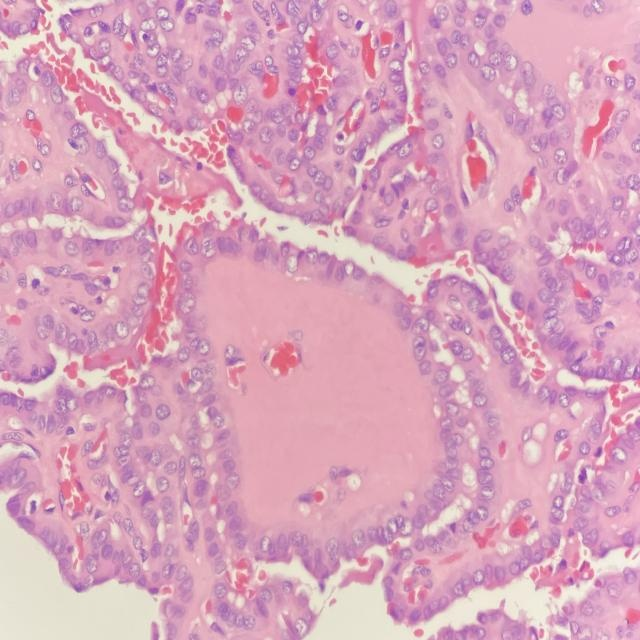TC: (163, 284, 210, 321), (350, 512, 372, 563), (408, 307, 436, 343), (434, 466, 461, 502), (513, 420, 544, 451), (538, 309, 570, 339), (497, 339, 523, 372), (178, 230, 207, 259), (428, 361, 456, 391), (602, 496, 629, 527), (252, 531, 276, 565), (150, 471, 178, 500), (138, 363, 165, 393), (281, 242, 301, 280), (544, 502, 572, 528), (475, 479, 504, 504), (228, 525, 252, 555), (467, 386, 492, 414), (216, 474, 247, 496), (152, 397, 176, 425), (181, 451, 207, 475), (193, 334, 219, 358), (323, 531, 341, 565), (470, 504, 498, 524), (456, 342, 476, 367), (553, 389, 573, 414), (380, 522, 396, 551), (575, 437, 592, 463)
